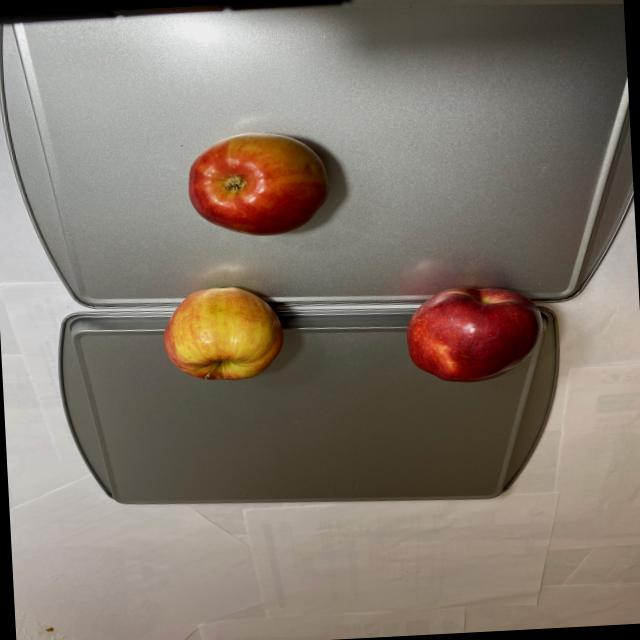apple: (150, 128, 350, 384), (398, 274, 548, 388)
